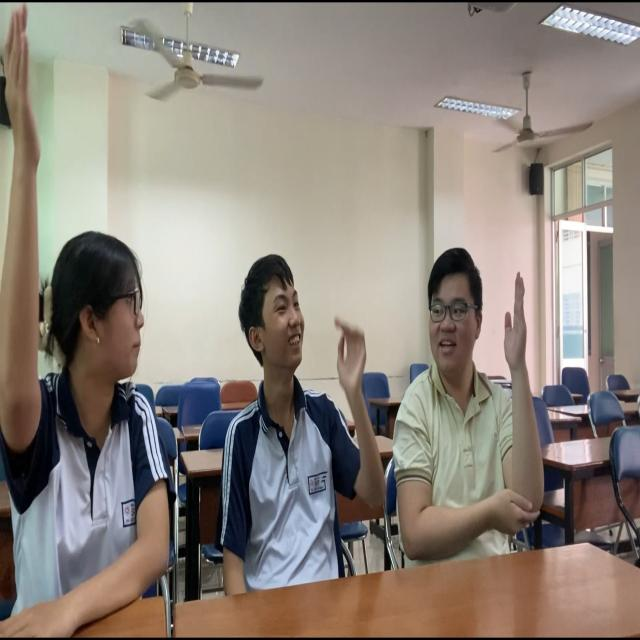raise_hand: (6, 1, 181, 640), (393, 227, 539, 590)
